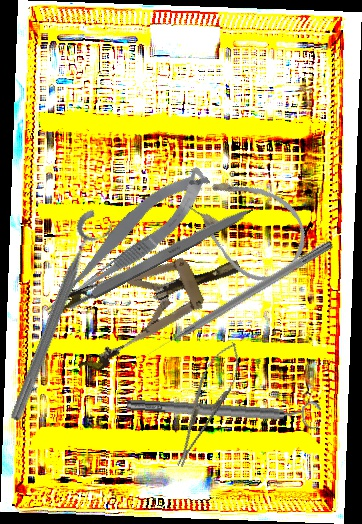Cannula: (175, 157, 321, 295)
Fixation Ring: (3, 205, 118, 429), (126, 388, 322, 432)
Micro Scissor: (25, 160, 224, 324)
Needle Holder: (163, 336, 250, 473)
Pusher: (143, 237, 335, 359)
Scalpel Handle: (63, 201, 256, 313)
Speculum: (51, 228, 256, 378)
